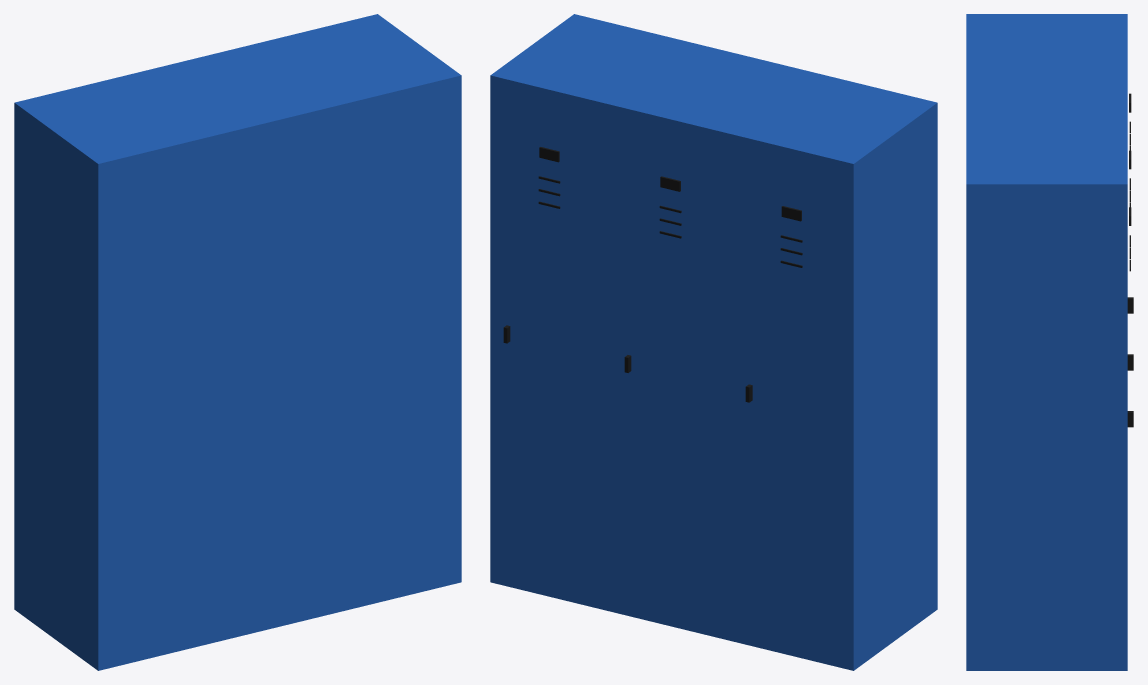
File: szafka_szkolna.obj
The picture shows the model from 3 angles, left to right: view 1: azimuth 30°, elevation 25°; view 2: azimuth 150°, elevation 25°; view 3: azimuth 270°, elevation 25°; orthographic projection. The views are drawn at different scales.
Parts seen in each view (by area): view 1: SzafkaKorytarz; view 2: SzafkaKorytarz; view 3: SzafkaKorytarz.
Boxes of the visible parts, <box> form: SzafkaKorytarz: <box>14,14,461,670</box>; SzafkaKorytarz: <box>490,14,937,670</box>; SzafkaKorytarz: <box>966,14,1133,670</box>.
Bounding box in the file's own units: 3 × 4 × 1.25.
